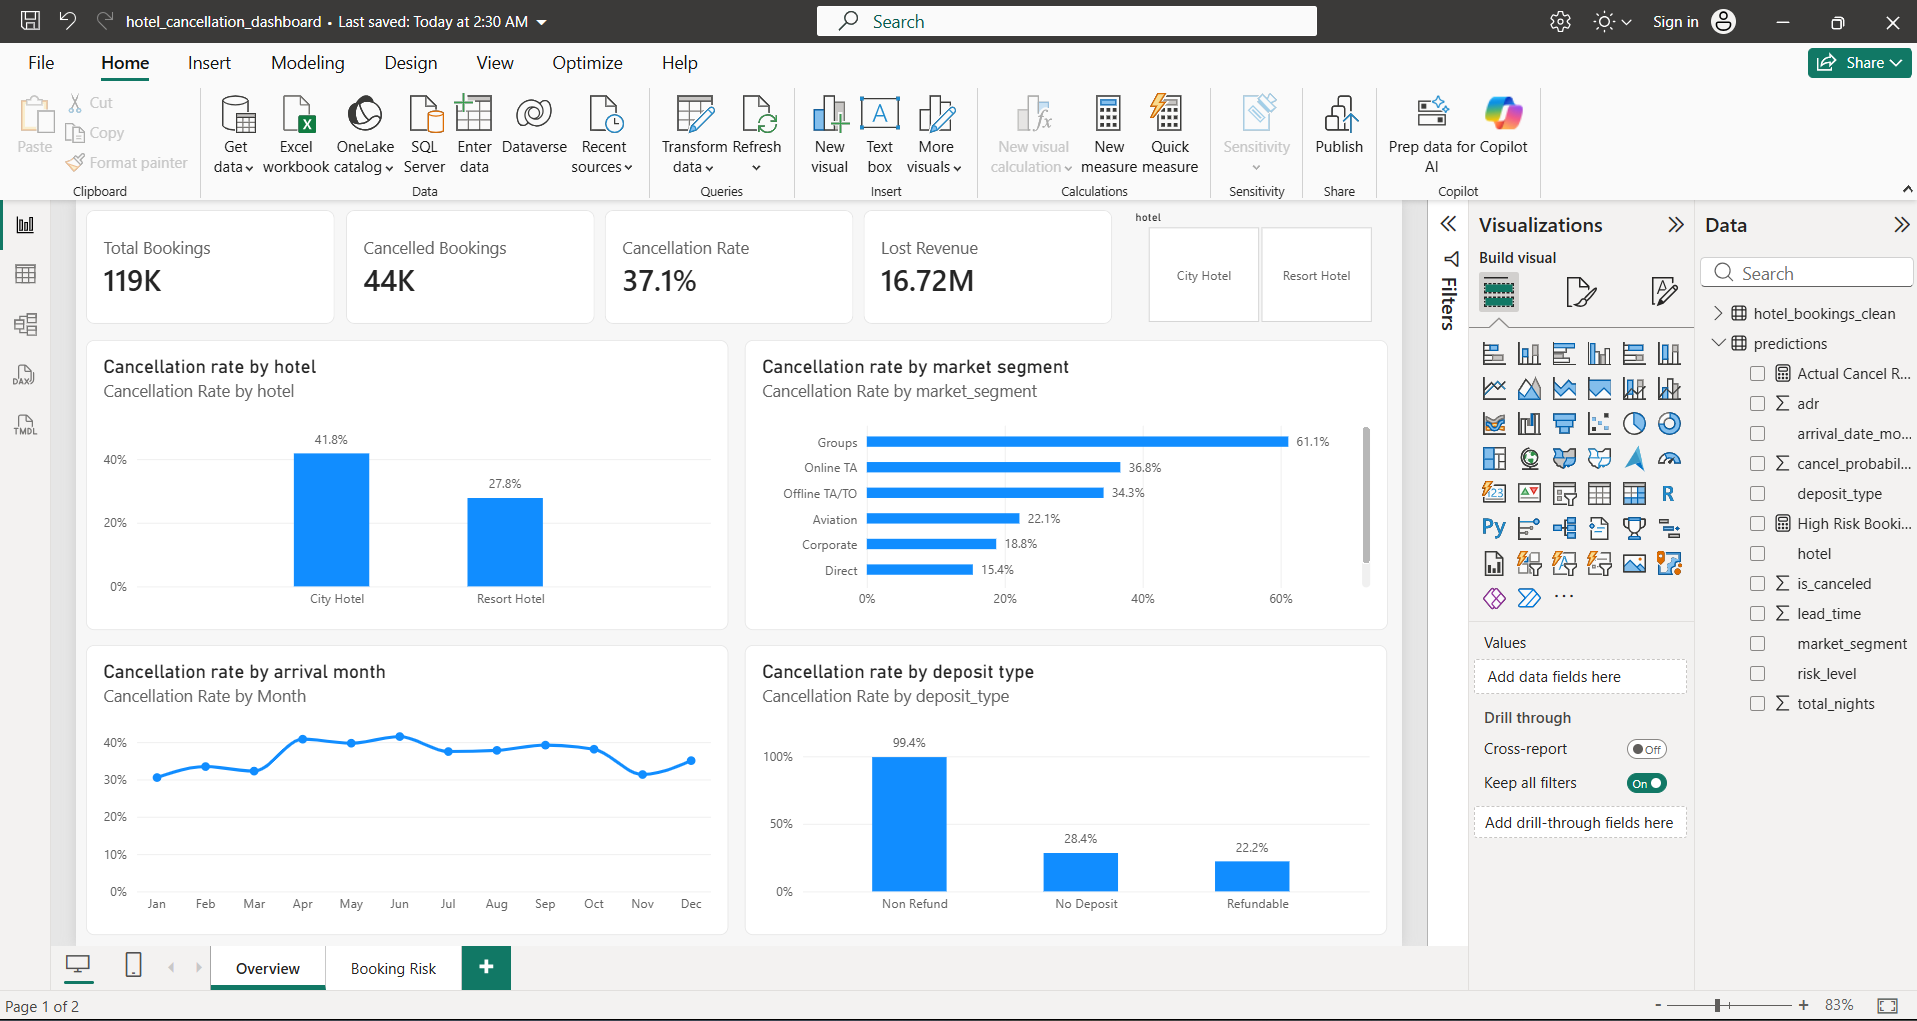

This screenshot's page, from the dashboard's own definition file:
{"tool":"powerbi","page":{"name":"Overview","canvas":[1280,720],"ordinal":0},"visuals":[{"type":"cardVisual","fields":{"Data":["hotel_bookings_clean.Total Bookings"]},"box":[10,10,240,110],"z":0},{"type":"cardVisual","fields":{"Data":["hotel_bookings_clean.Cancelled Bookings"]},"box":[260,10,240,110],"z":1000},{"type":"cardVisual","fields":{"Data":["hotel_bookings_clean.Cancellation Rate"]},"box":[510,10,240,110],"z":2000},{"type":"cardVisual","fields":{"Data":["hotel_bookings_clean.Lost Revenue"]},"box":[760,10,240,110],"z":3000},{"type":"clusteredColumnChart","title":"Cancellation rate by hotel","fields":{"Category":["hotel_bookings_clean.hotel"],"Y":["hotel_bookings_clean.Cancellation Rate"]},"box":[10,135,620,280],"z":4000},{"type":"clusteredBarChart","title":"Cancellation rate by market segment","fields":{"Category":["hotel_bookings_clean.market_segment"],"Y":["hotel_bookings_clean.Cancellation Rate"]},"box":[645,135,621,280],"z":5000},{"type":"slicer","fields":{"Values":["hotel_bookings_clean.hotel"]},"box":[1015,10,255,110],"z":6000},{"type":"lineChart","title":"Cancellation rate by arrival month","fields":{"Category":["hotel_bookings_clean.Month"],"Y":["hotel_bookings_clean.Cancellation Rate"]},"box":[10,430,620,280],"z":7000},{"type":"clusteredColumnChart","title":"Cancellation rate by deposit type","fields":{"Category":["hotel_bookings_clean.deposit_type"],"Y":["hotel_bookings_clean.Cancellation Rate"]},"box":[645,430,620,280],"z":8000}]}

Visuals, with their boxes on the page's 1280x720 design canvas (x1, y1, x2, y2). These are canvas units, not pixel positions in the 1917x1021 screenshot, which may show the page scaled, cropped or inside an application window:
cardVisual - hotel_bookings_clean.Total Bookings: select_region(10, 10, 250, 120)
cardVisual - hotel_bookings_clean.Cancelled Bookings: select_region(260, 10, 500, 120)
cardVisual - hotel_bookings_clean.Cancellation Rate: select_region(510, 10, 750, 120)
cardVisual - hotel_bookings_clean.Lost Revenue: select_region(760, 10, 1000, 120)
"Cancellation rate by hotel" clusteredColumnChart: select_region(10, 135, 630, 415)
"Cancellation rate by market segment" clusteredBarChart: select_region(645, 135, 1266, 415)
slicer - hotel_bookings_clean.hotel: select_region(1015, 10, 1270, 120)
"Cancellation rate by arrival month" lineChart: select_region(10, 430, 630, 710)
"Cancellation rate by deposit type" clusteredColumnChart: select_region(645, 430, 1265, 710)
